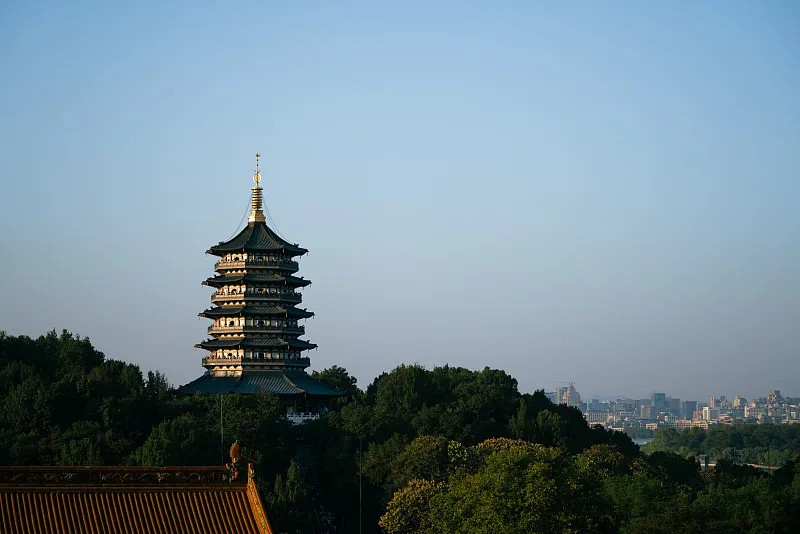Leifeng: (182, 152, 321, 397)
